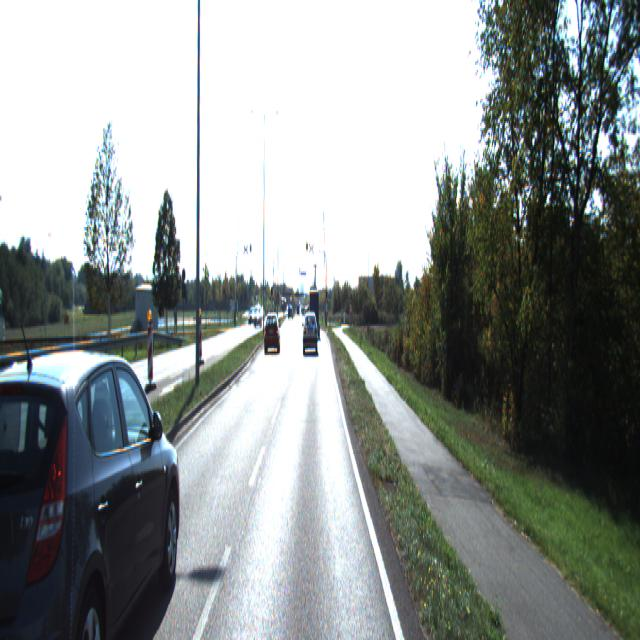Car: (0, 313, 180, 639), (264, 314, 280, 355), (303, 312, 318, 352), (309, 289, 320, 337)
